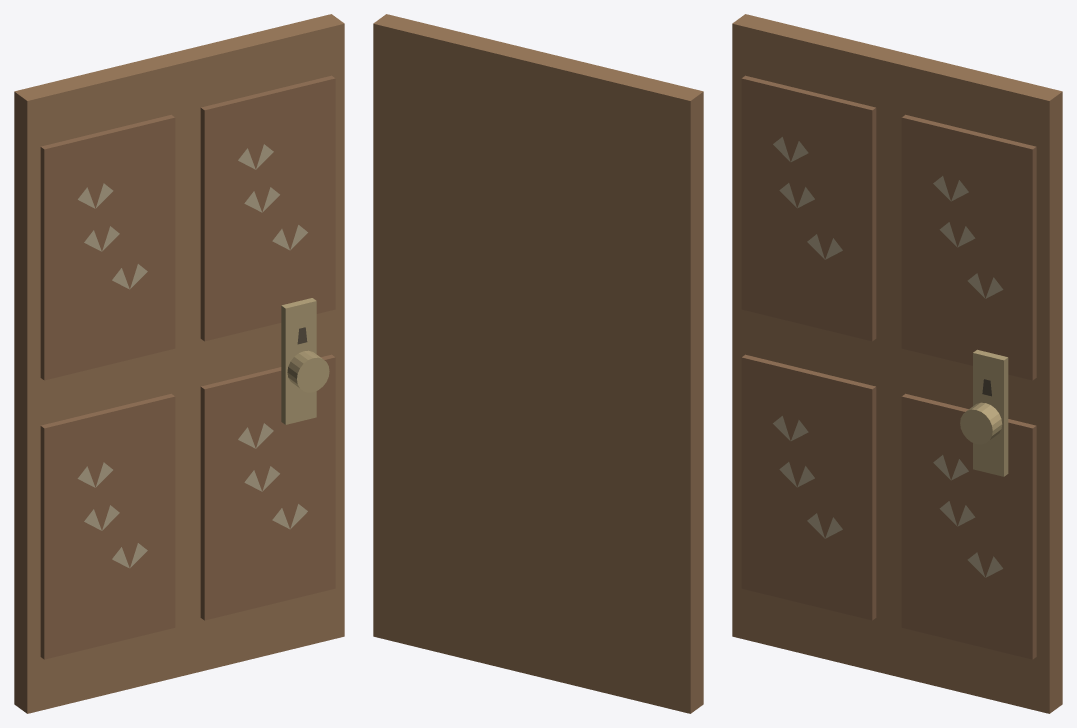
The model's file is door.glb.
3 renders of one model, left to right at view 1: azimuth 30°, elevation 25°; view 2: azimuth 150°, elevation 25°; view 3: azimuth 330°, elevation 25°, orthographic.
Visible parts, largest first — view 1: door part 0; view 2: door part 0; view 3: door part 0.
Part boxes in pixels (bbox=[...]): door part 0: bbox=[14, 14, 344, 713]; door part 0: bbox=[373, 14, 703, 713]; door part 0: bbox=[732, 14, 1062, 713].
Bounding box in the file's own units: 1.94 × 3.58 × 0.3602.
